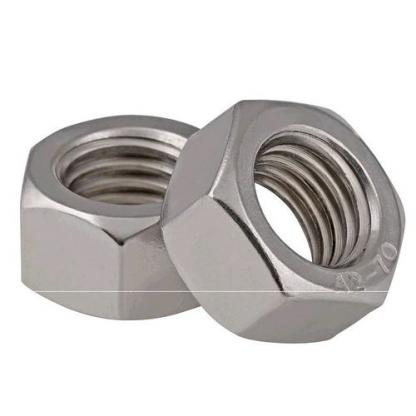FOD: (158, 99, 407, 349), (18, 111, 225, 322)
